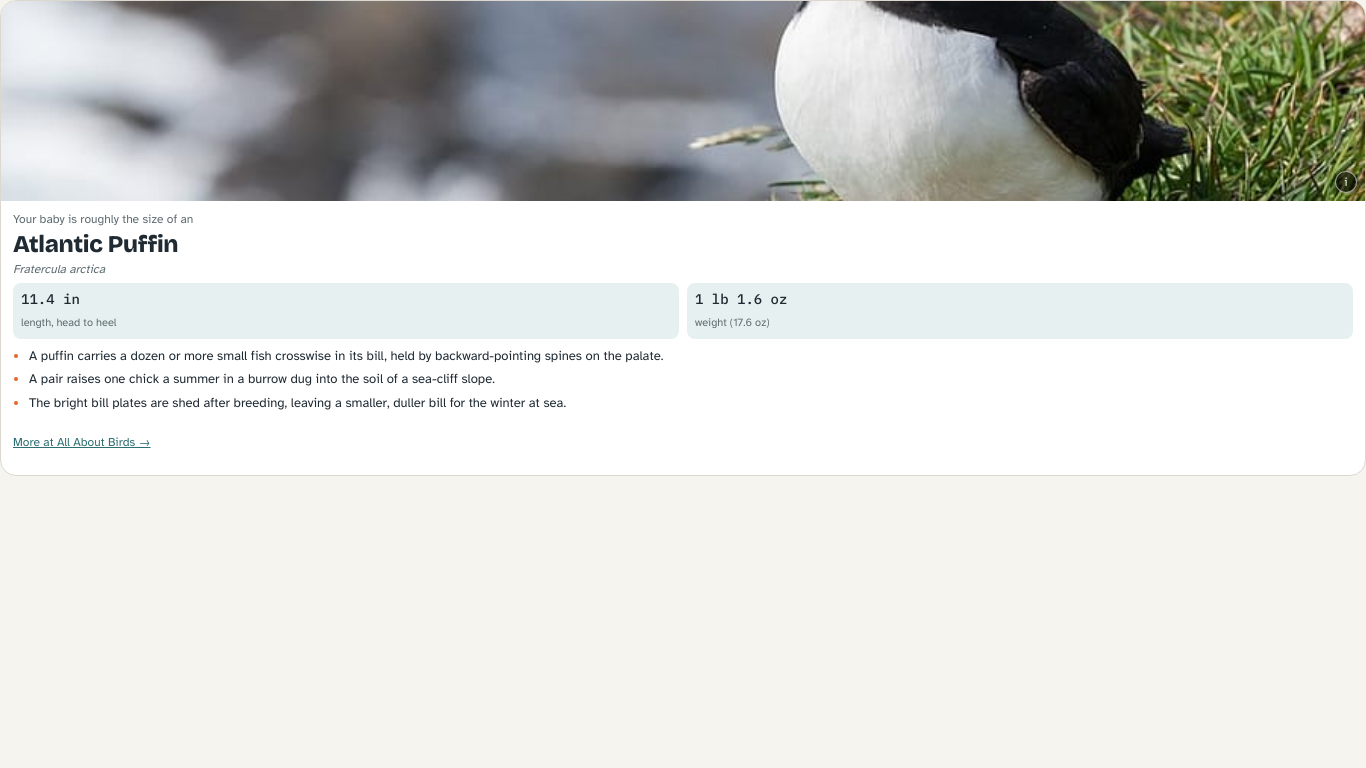
Scenario: ComparisonCard › opens the length chart from the length inset
Click the button "11.4 in length, head to heel" at (50, 299), box 13,283 -> 679,339
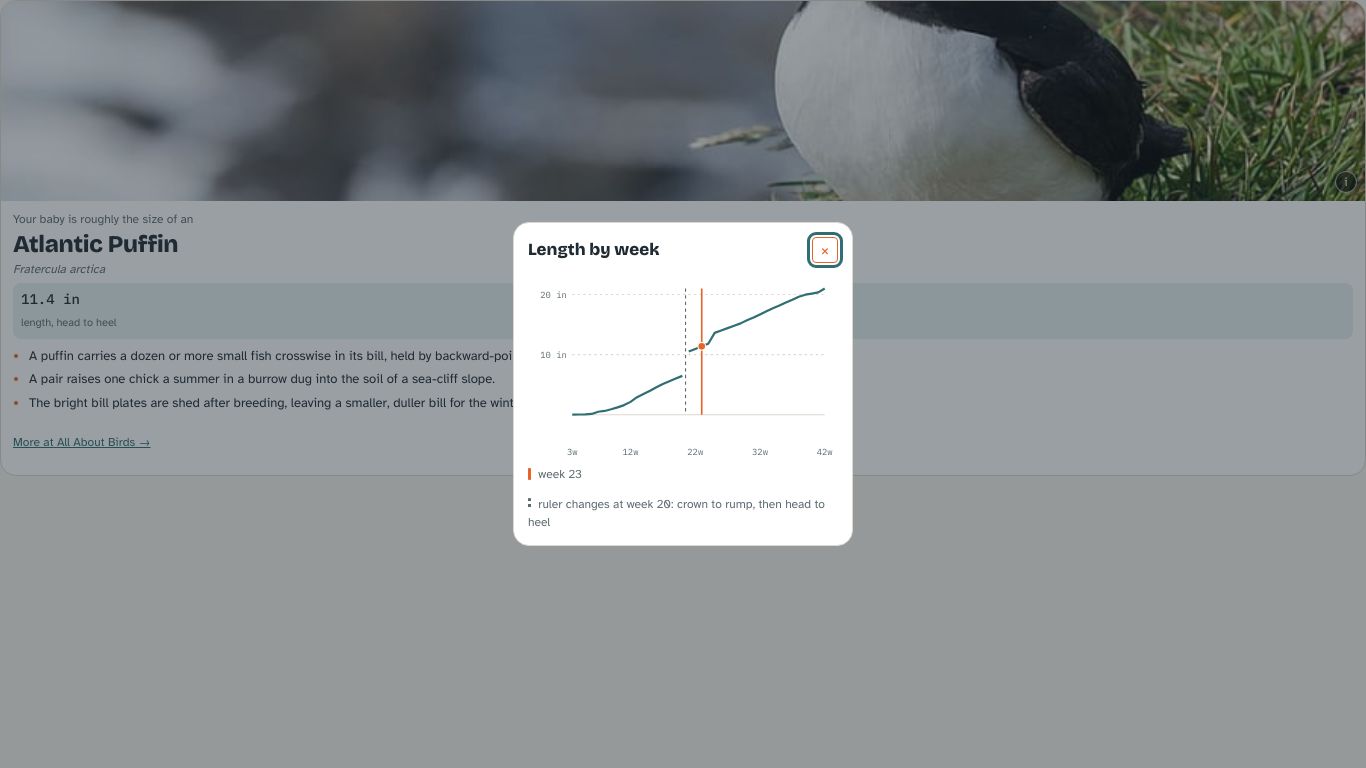
Now the dialog "Length by week" is shown, box 513,222 -> 853,546
